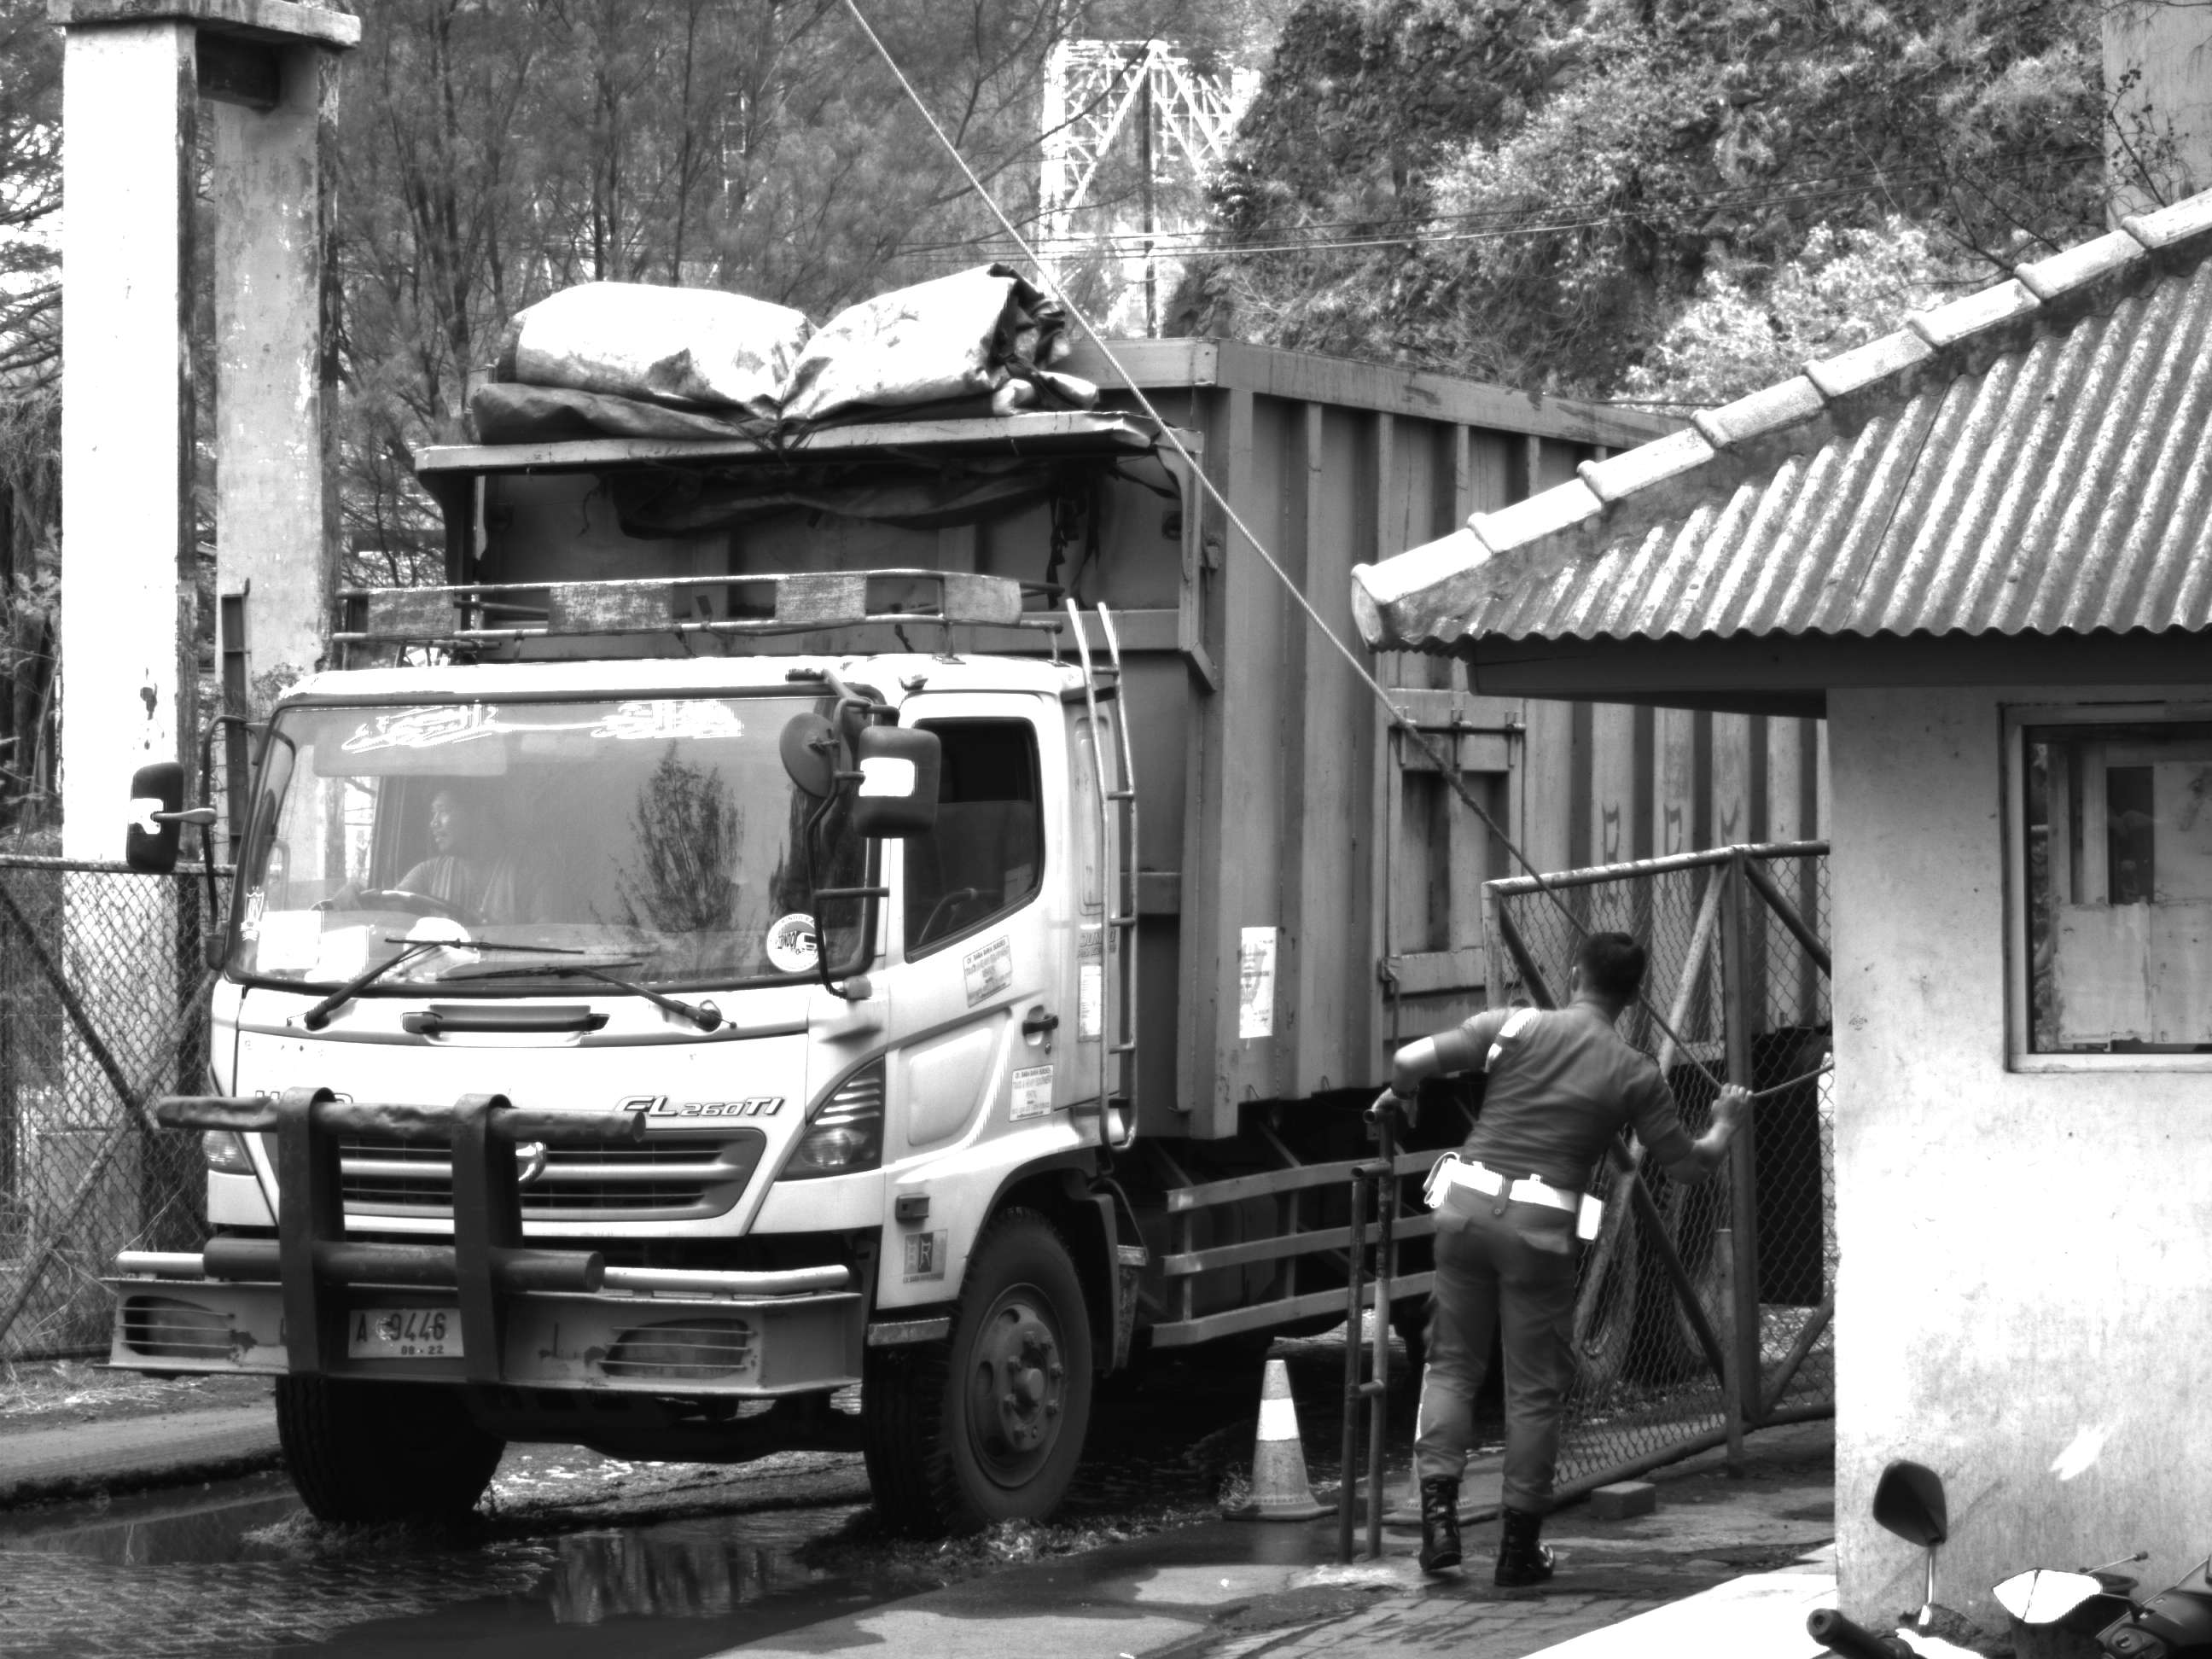day_truck_front: (95, 649, 1163, 1534)
plate: (346, 1301, 464, 1364)
